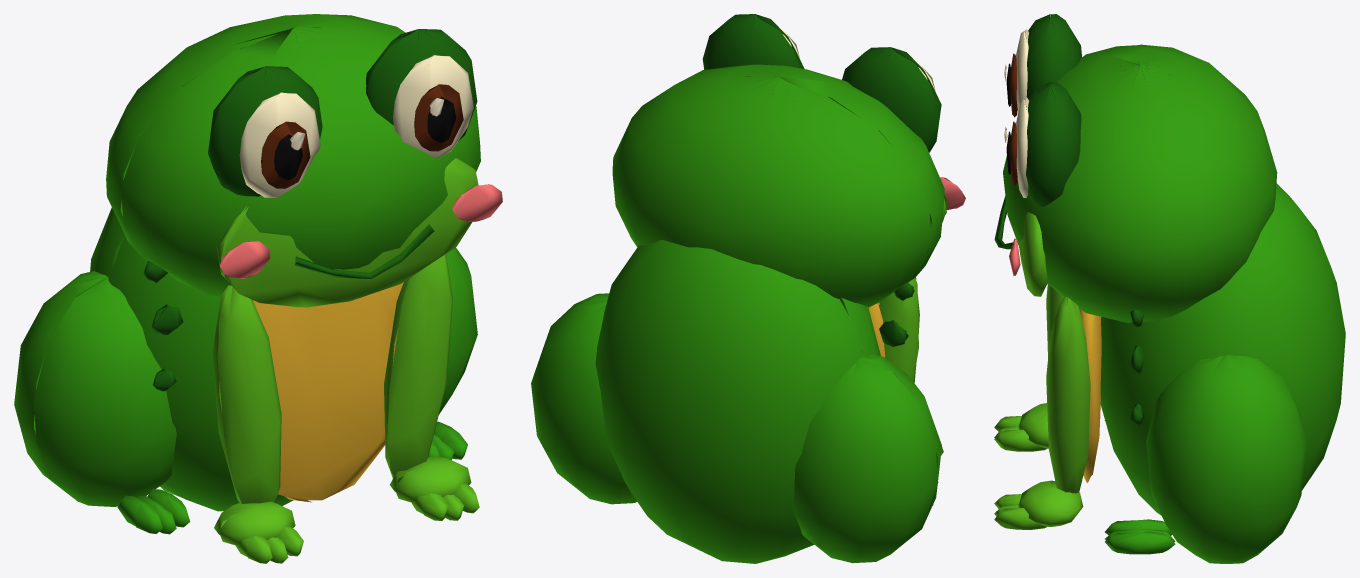
The model's file is frog.glb.
The picture shows the model from 3 angles, left to right: view 1: azimuth 30°, elevation 25°; view 2: azimuth 150°, elevation 25°; view 3: azimuth 270°, elevation 25°; orthographic projection. The views are drawn at different scales.
Visible parts, largest first — view 1: frog; view 2: frog; view 3: frog.
Boxes of the visible parts, left/top/right/bottom form: frog: left=14, top=14, right=502, bottom=563; frog: left=531, top=14, right=965, bottom=563; frog: left=994, top=14, right=1345, bottom=563.
Bounding box in the file's own units: 0.8742 × 1 × 0.6648.
Materials: 1 (1 with a texture image).
